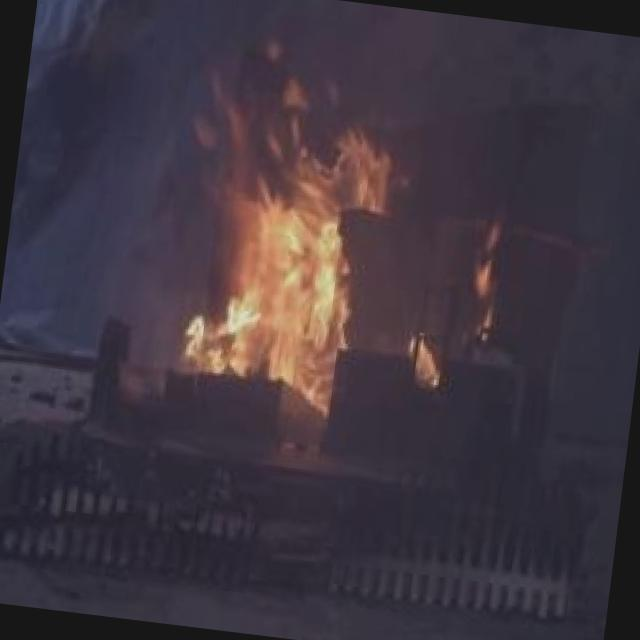fire: (128, 16, 532, 447)
